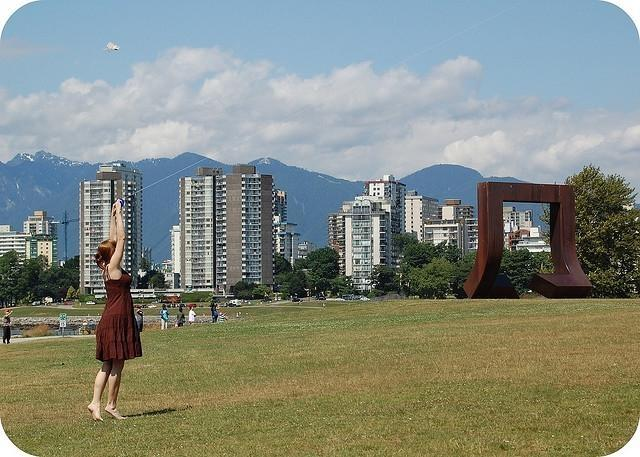car: (292, 298, 304, 303), (218, 302, 228, 307), (227, 303, 236, 308), (261, 298, 272, 302), (188, 304, 197, 307), (181, 304, 185, 307)
